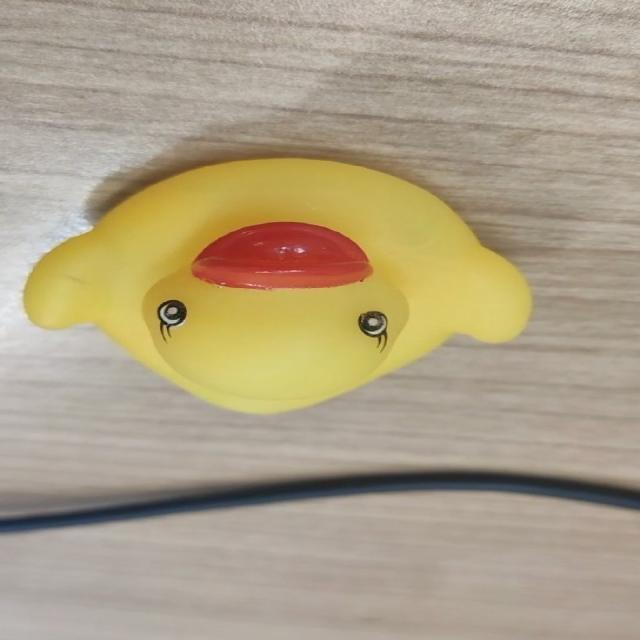rubber-duck: (23, 157, 530, 411)
